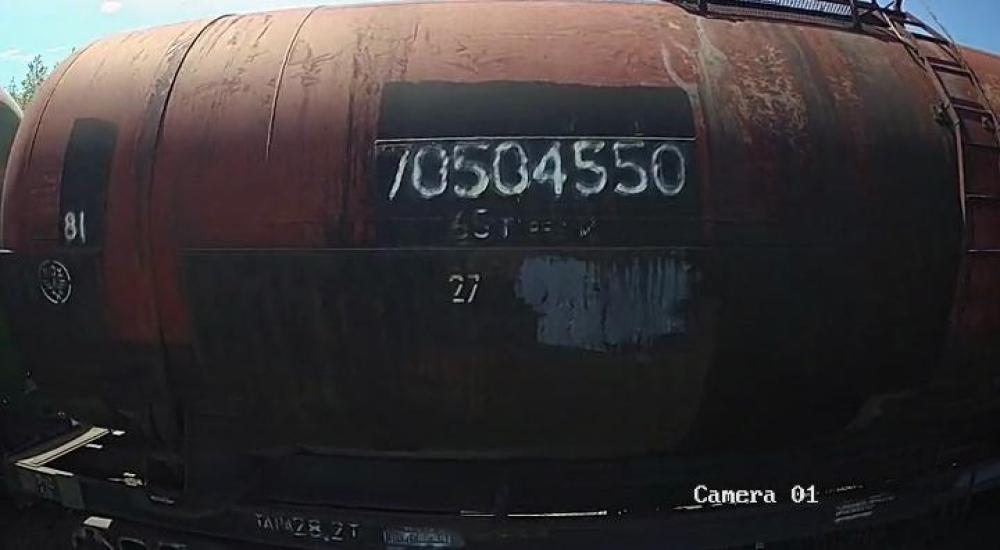Wagon-number: (377, 135, 692, 206)
